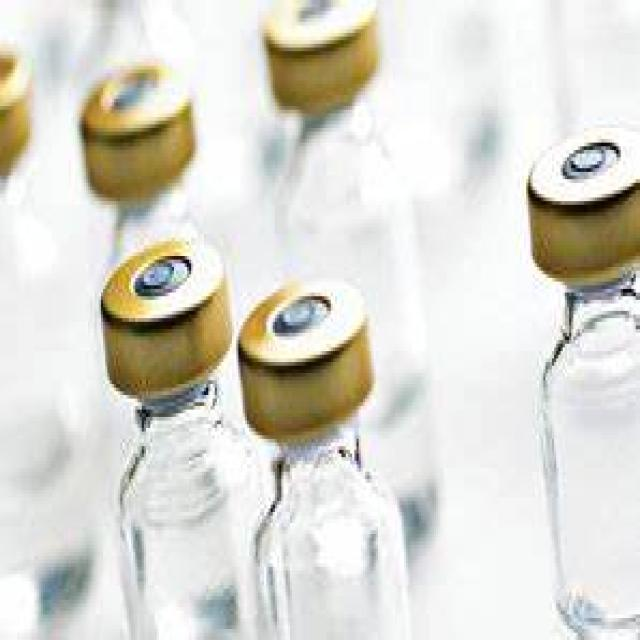vial: (77, 76, 222, 204), (87, 252, 240, 371), (240, 289, 386, 394), (259, 0, 396, 105), (528, 149, 640, 266), (0, 47, 37, 172)
